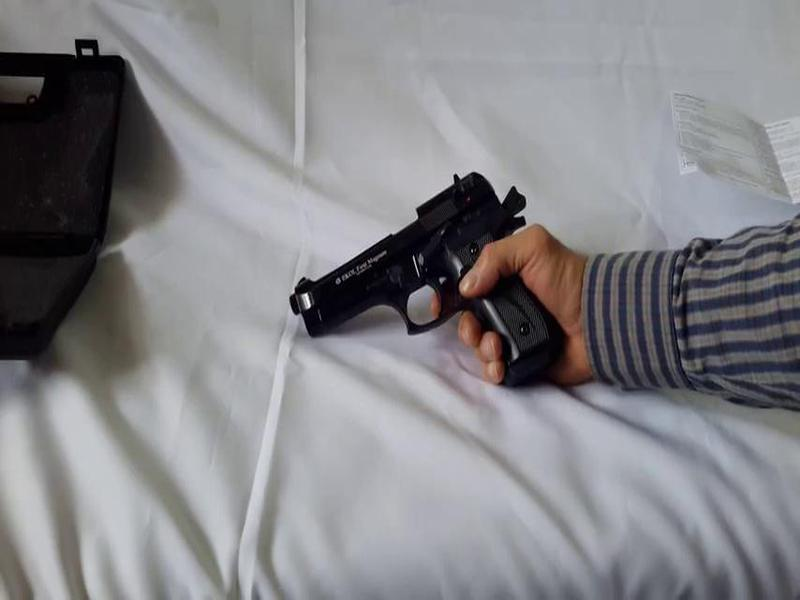Pistola: (274, 162, 571, 400)
